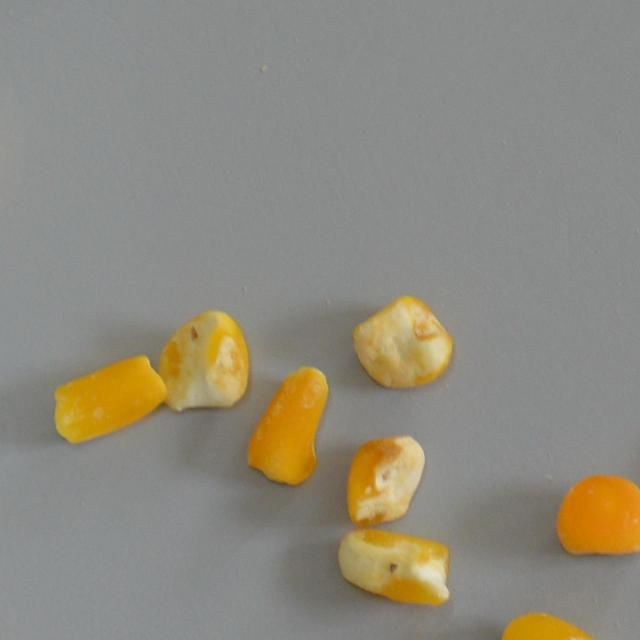dañado: (344, 433, 428, 530), (553, 472, 640, 562)
estandar: (350, 292, 454, 391)
pelicula: (49, 356, 168, 453), (241, 364, 328, 488), (495, 608, 616, 640)
punto_negro: (334, 525, 456, 614), (154, 304, 253, 412)
